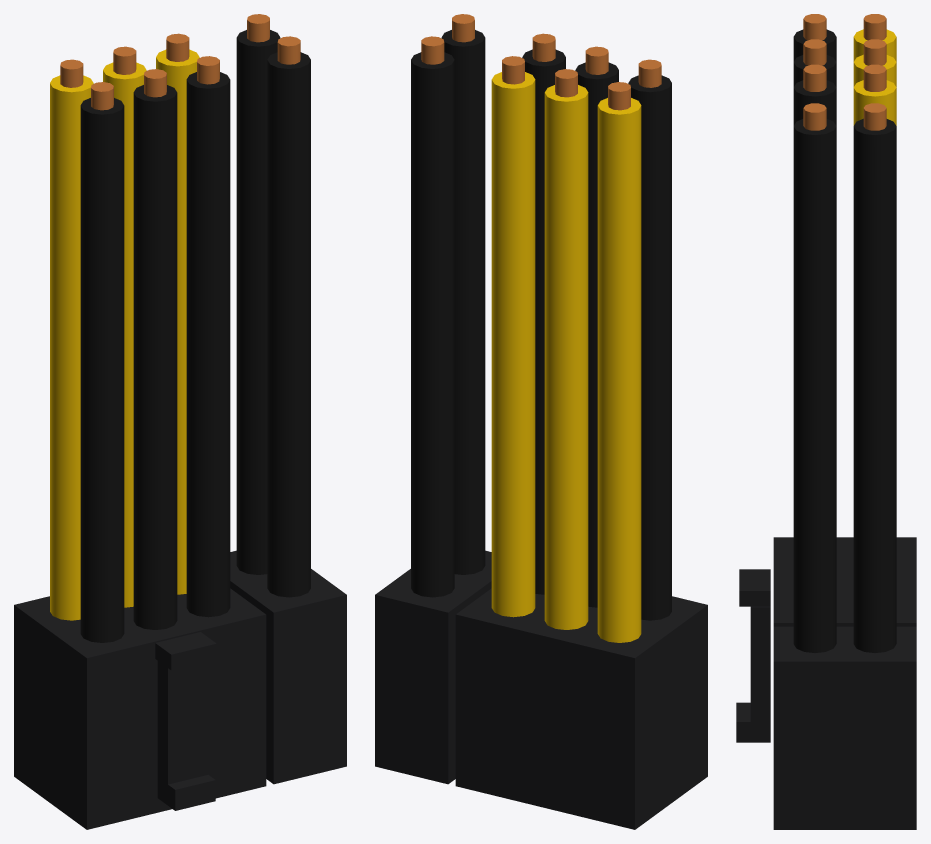
Rendered from pcie8.glb.
The picture shows the model from 3 angles, left to right: view 1: azimuth 30°, elevation 25°; view 2: azimuth 150°, elevation 25°; view 3: azimuth 270°, elevation 25°; orthographic projection. The views are drawn at different scales.
Visible parts, largest first — view 1: cable_pcie8; view 2: cable_pcie8; view 3: cable_pcie8.
Boxes of the visible parts, x1,y1,x2,y2 form: cable_pcie8: (14, 14, 346, 829); cable_pcie8: (375, 14, 707, 829); cable_pcie8: (736, 14, 916, 829).
Size of the model in its own units: 0.0991 by 0.2638 by 0.0606.
